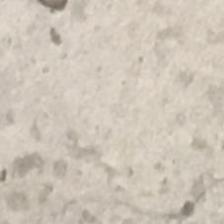Non_Crack: (18, 31, 224, 186)
